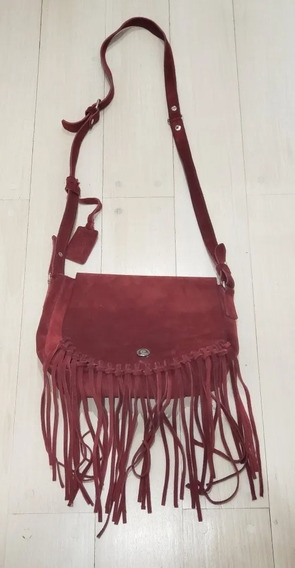cartera: (33, 16, 246, 403)
